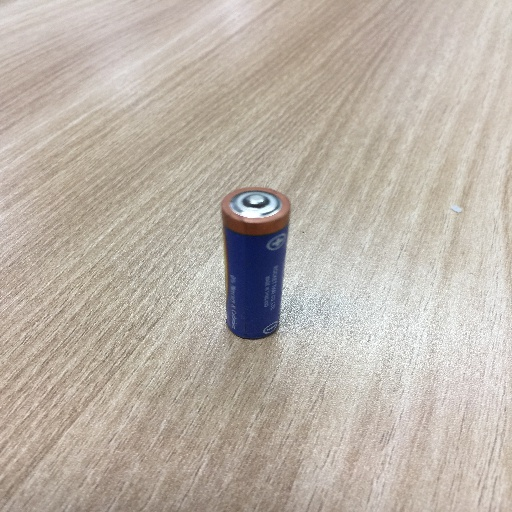Battery_0: (214, 178, 305, 356)
